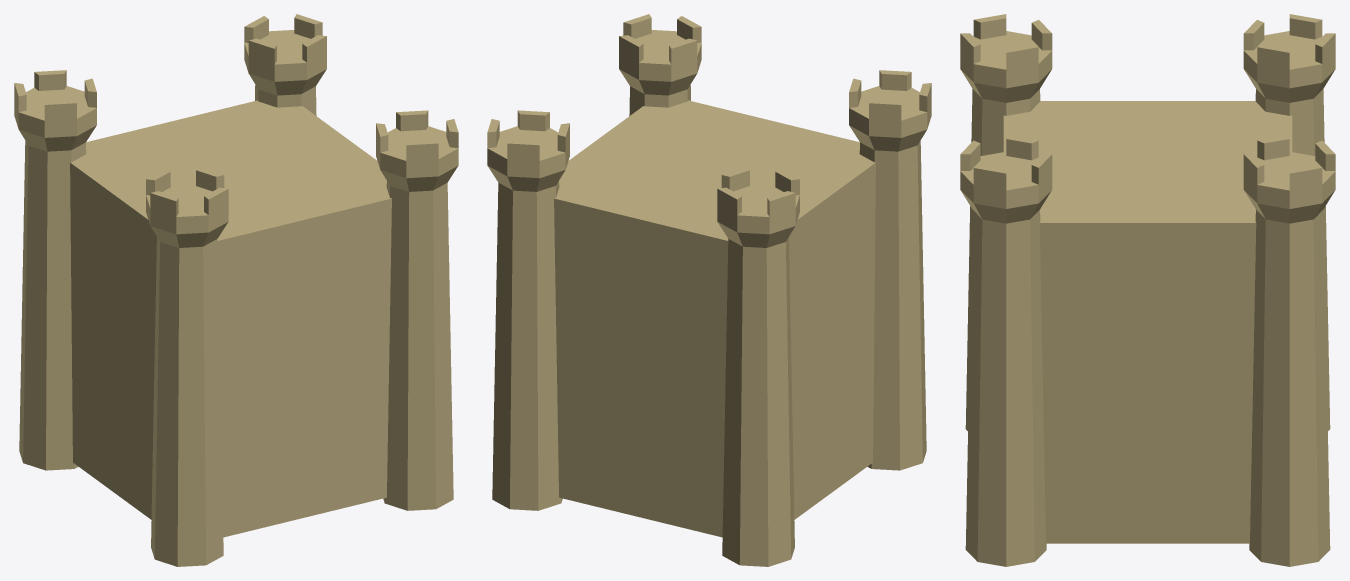
File: PlotCity.fbx
3 views of the same model, side by side, from view 1: azimuth 30°, elevation 25°; view 2: azimuth 150°, elevation 25°; view 3: azimuth 270°, elevation 25° (orthographic). The views are drawn at different scales.
Visible parts, largest first — view 1: Cube, Cylinder; view 2: Cube, Cylinder; view 3: Cube, Cylinder.
Part boxes in pixels (<box>): Cube: <box>70,100,391,537</box>; Cylinder: <box>14,14,458,566</box>; Cube: <box>554,100,875,537</box>; Cylinder: <box>487,14,931,566</box>; Cube: <box>1003,101,1292,543</box>; Cylinder: <box>960,14,1335,566</box>.
Bounding box in the file's own units: 1047 × 1210 × 1041.
